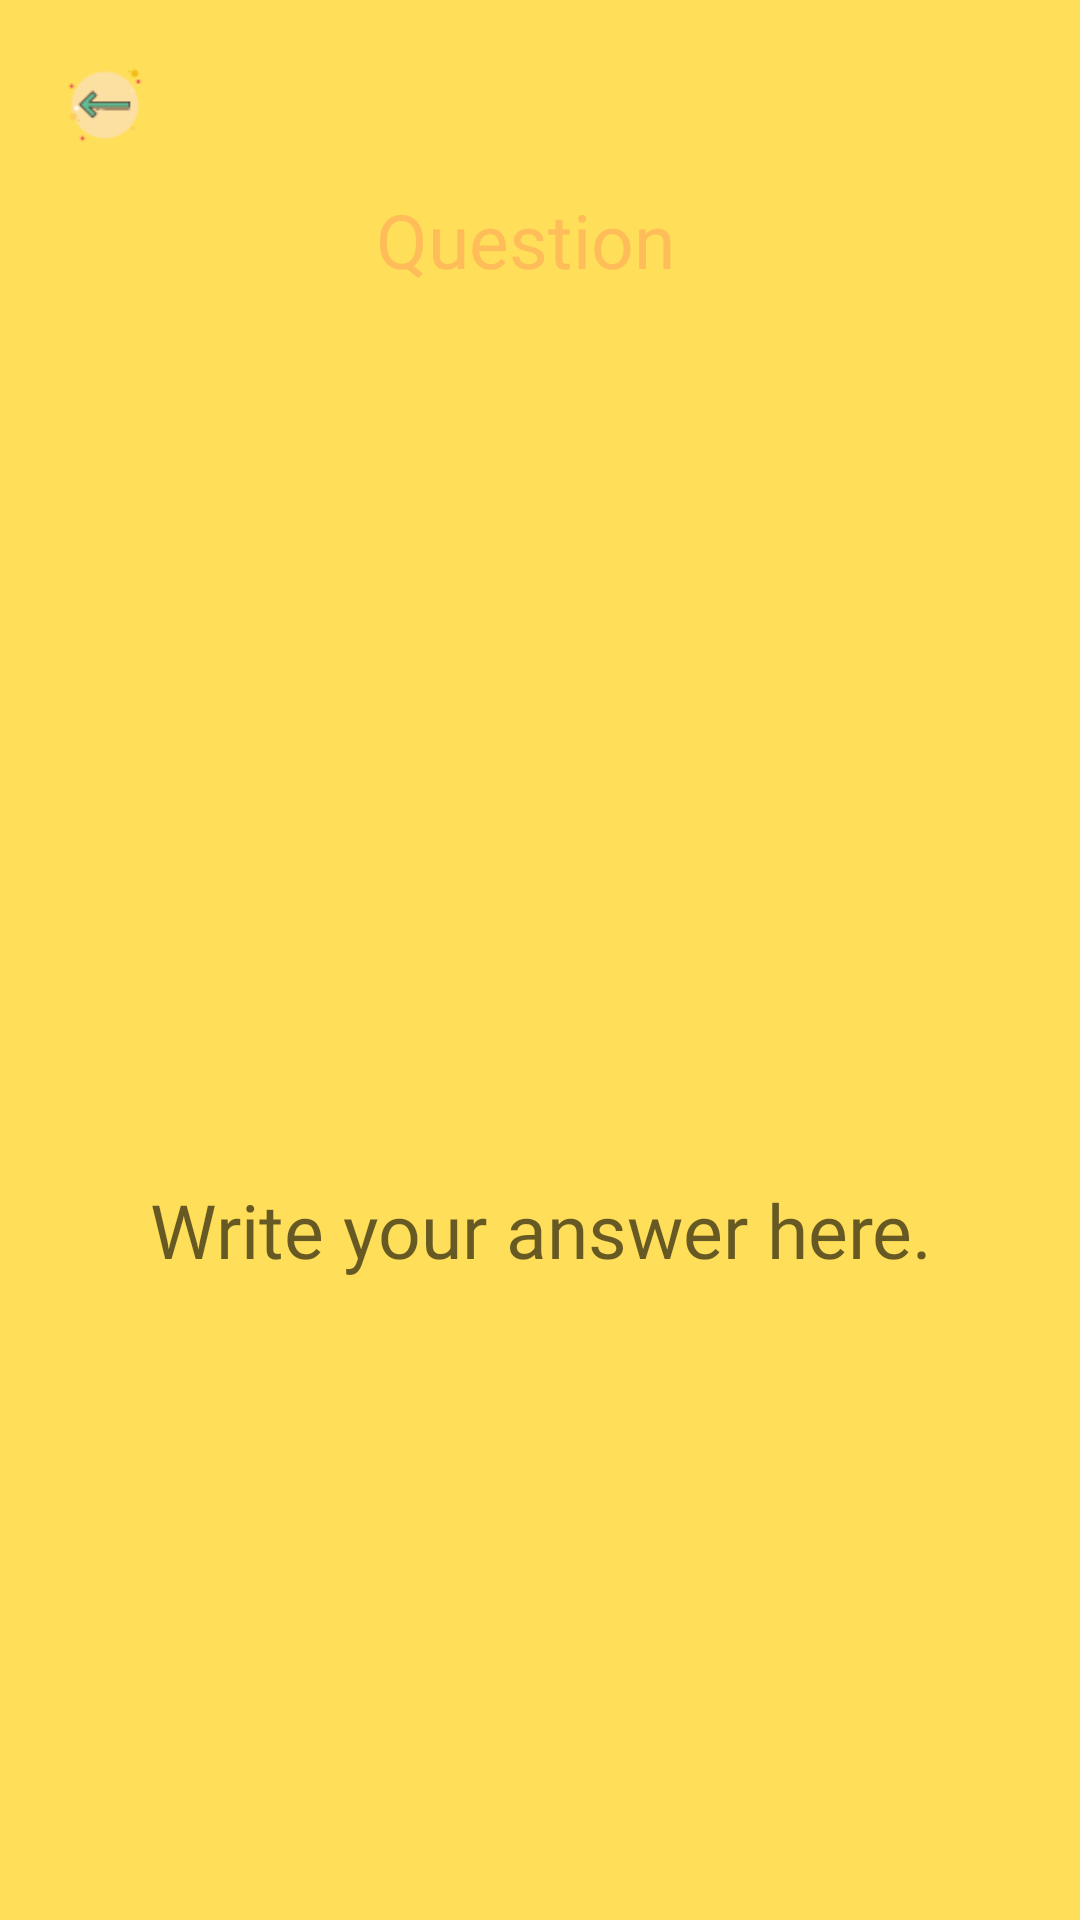

Where icons sit on this 1080px×1920px app screen, as (x1, y1, x2, y2):
back: (69, 70, 141, 141)
